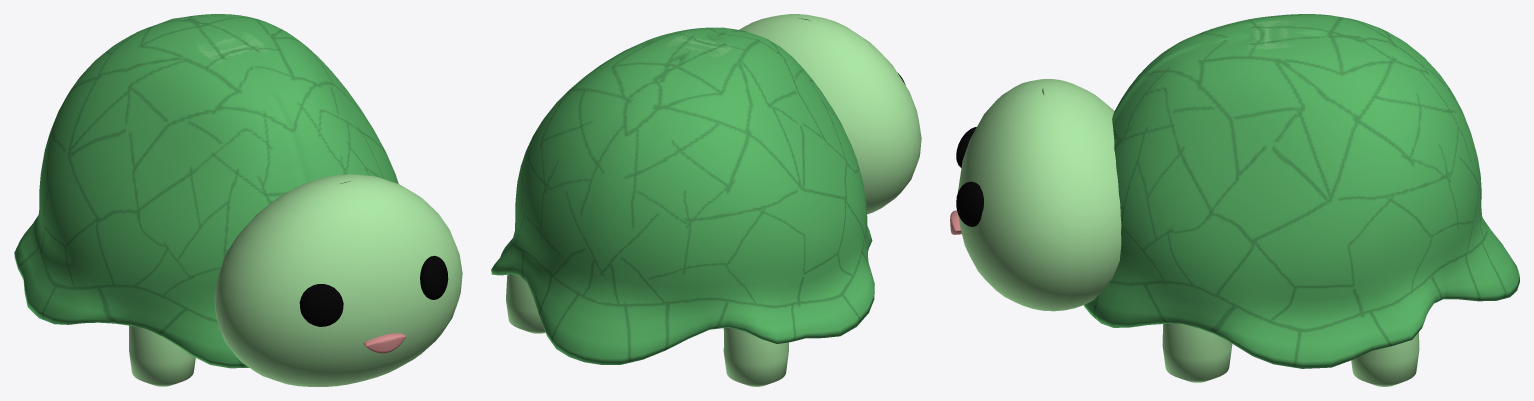
Rendered from tutel.fbx.
3 views of the same model, side by side, from view 1: azimuth 30°, elevation 25°; view 2: azimuth 150°, elevation 25°; view 3: azimuth 270°, elevation 25° (orthographic). The views are drawn at different scales.
Visible parts, largest first — view 1: Shell, Head, Leg.F, Eyes, Mouth; view 2: Shell, Head, Leg.B; view 3: Shell, Head, Leg.F, Leg.B, Eyes.
Part boxes in pixels (x1,y1,x2,y2): Shell: [14, 14, 398, 368]; Head: [214, 174, 462, 386]; Leg.F: [129, 325, 195, 386]; Eyes: [299, 255, 448, 326]; Mouth: [363, 333, 405, 353]; Shell: [491, 27, 874, 364]; Head: [739, 14, 921, 214]; Leg.B: [506, 274, 788, 386]; Shell: [1083, 14, 1519, 368]; Head: [957, 79, 1121, 311]; Leg.F: [1162, 323, 1232, 382]; Leg.B: [1351, 332, 1419, 386]; Eyes: [956, 127, 983, 226].
Bounding box in the file's own units: 231 × 175 × 311.
